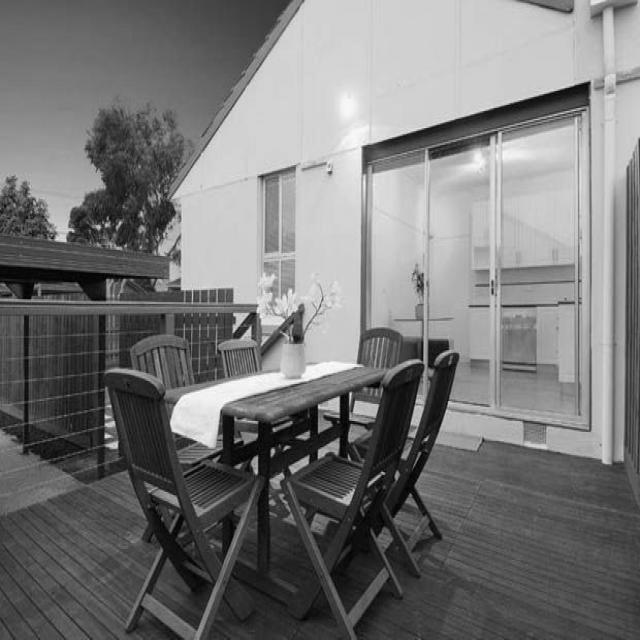table: (150, 344, 411, 477)
